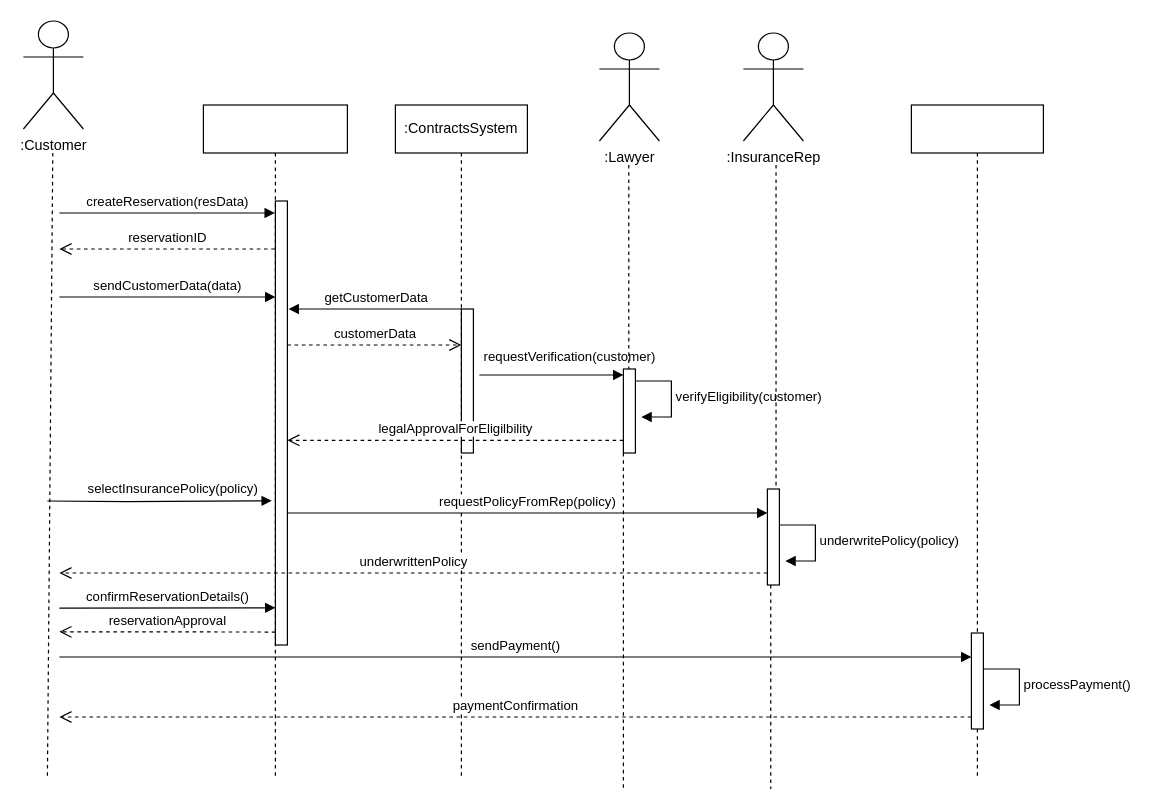
This 1152x811 diagram has some shape labels left out. Here are the shapes that lost their labels. From the top down, the box of each, then its label:
(202, 104, 347, 777): :ReservationSystem
(910, 104, 1043, 777): :PaymentSystem
